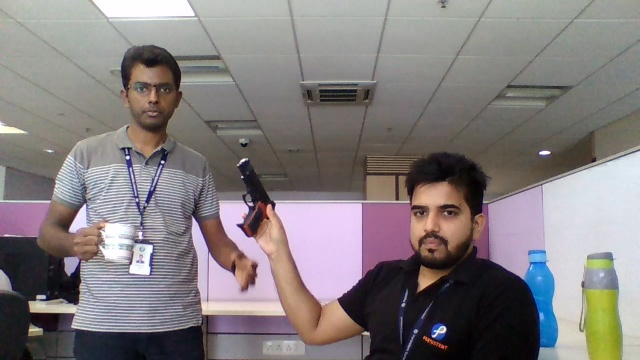gun: (235, 157, 275, 230)
